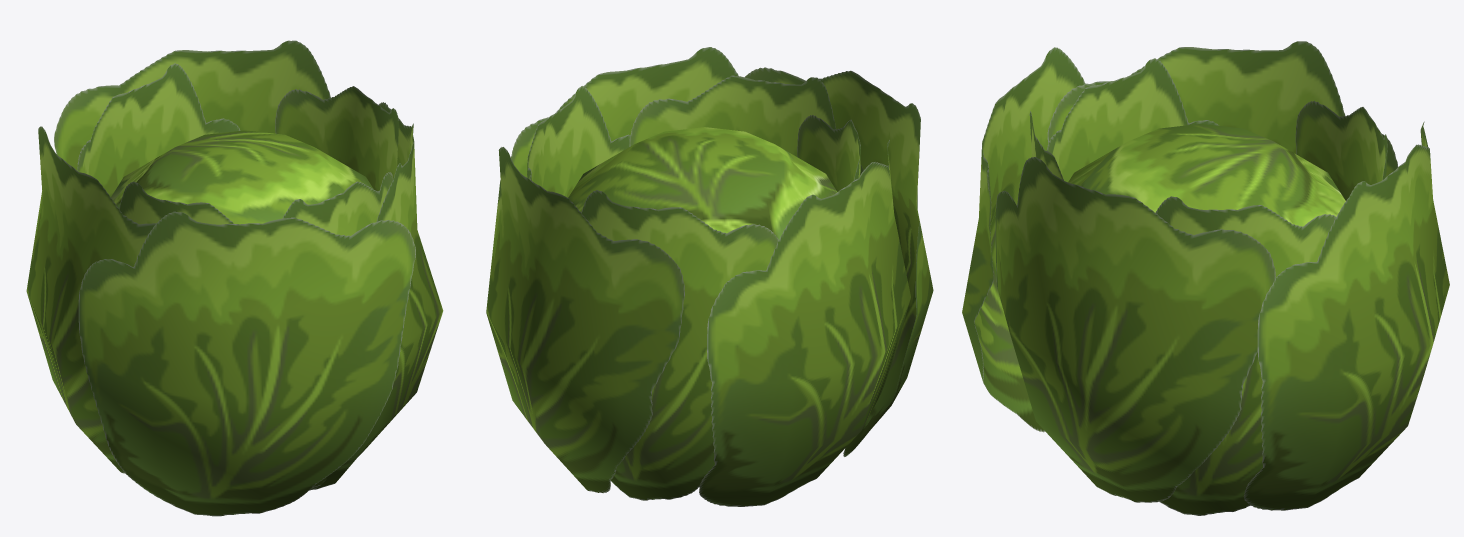
File: Cabbage_01.FBX
3 views of the same model, side by side, from view 1: azimuth 30°, elevation 25°; view 2: azimuth 150°, elevation 25°; view 3: azimuth 270°, elevation 25° (orthographic). The views are drawn at different scales.
Visible parts, largest first — view 1: Cabbage_01; view 2: Cabbage_01; view 3: Cabbage_01.
Boxes of the visible parts, left/top/right/bottom form: Cabbage_01: left=26, top=40, right=443, bottom=516; Cabbage_01: left=486, top=47, right=933, bottom=506; Cabbage_01: left=962, top=41, right=1449, bottom=515.
Bounding box in the file's own units: 2.32 × 2.12 × 2.46.
